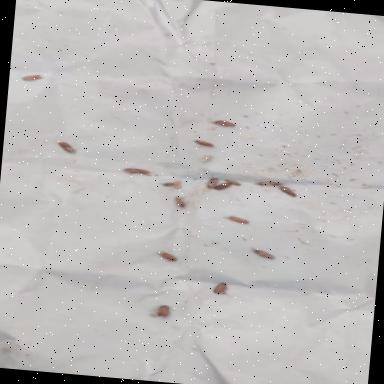pbw: (208, 118, 238, 128), (252, 248, 278, 259), (156, 304, 176, 318), (226, 214, 251, 224), (58, 141, 78, 153), (213, 280, 230, 294), (158, 250, 178, 261), (281, 185, 299, 197), (194, 139, 220, 147), (122, 168, 151, 174), (205, 177, 220, 188), (24, 74, 44, 82), (175, 196, 187, 208), (260, 180, 284, 186), (214, 182, 231, 190), (225, 178, 242, 186), (173, 179, 182, 189)
